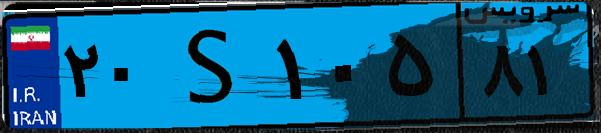0: (330, 28, 385, 110), (110, 28, 158, 98)
1: (270, 28, 330, 110), (525, 38, 570, 115)
2: (57, 26, 110, 100)
5: (385, 28, 445, 110)
8: (475, 38, 525, 113)
S: (158, 12, 270, 120)
